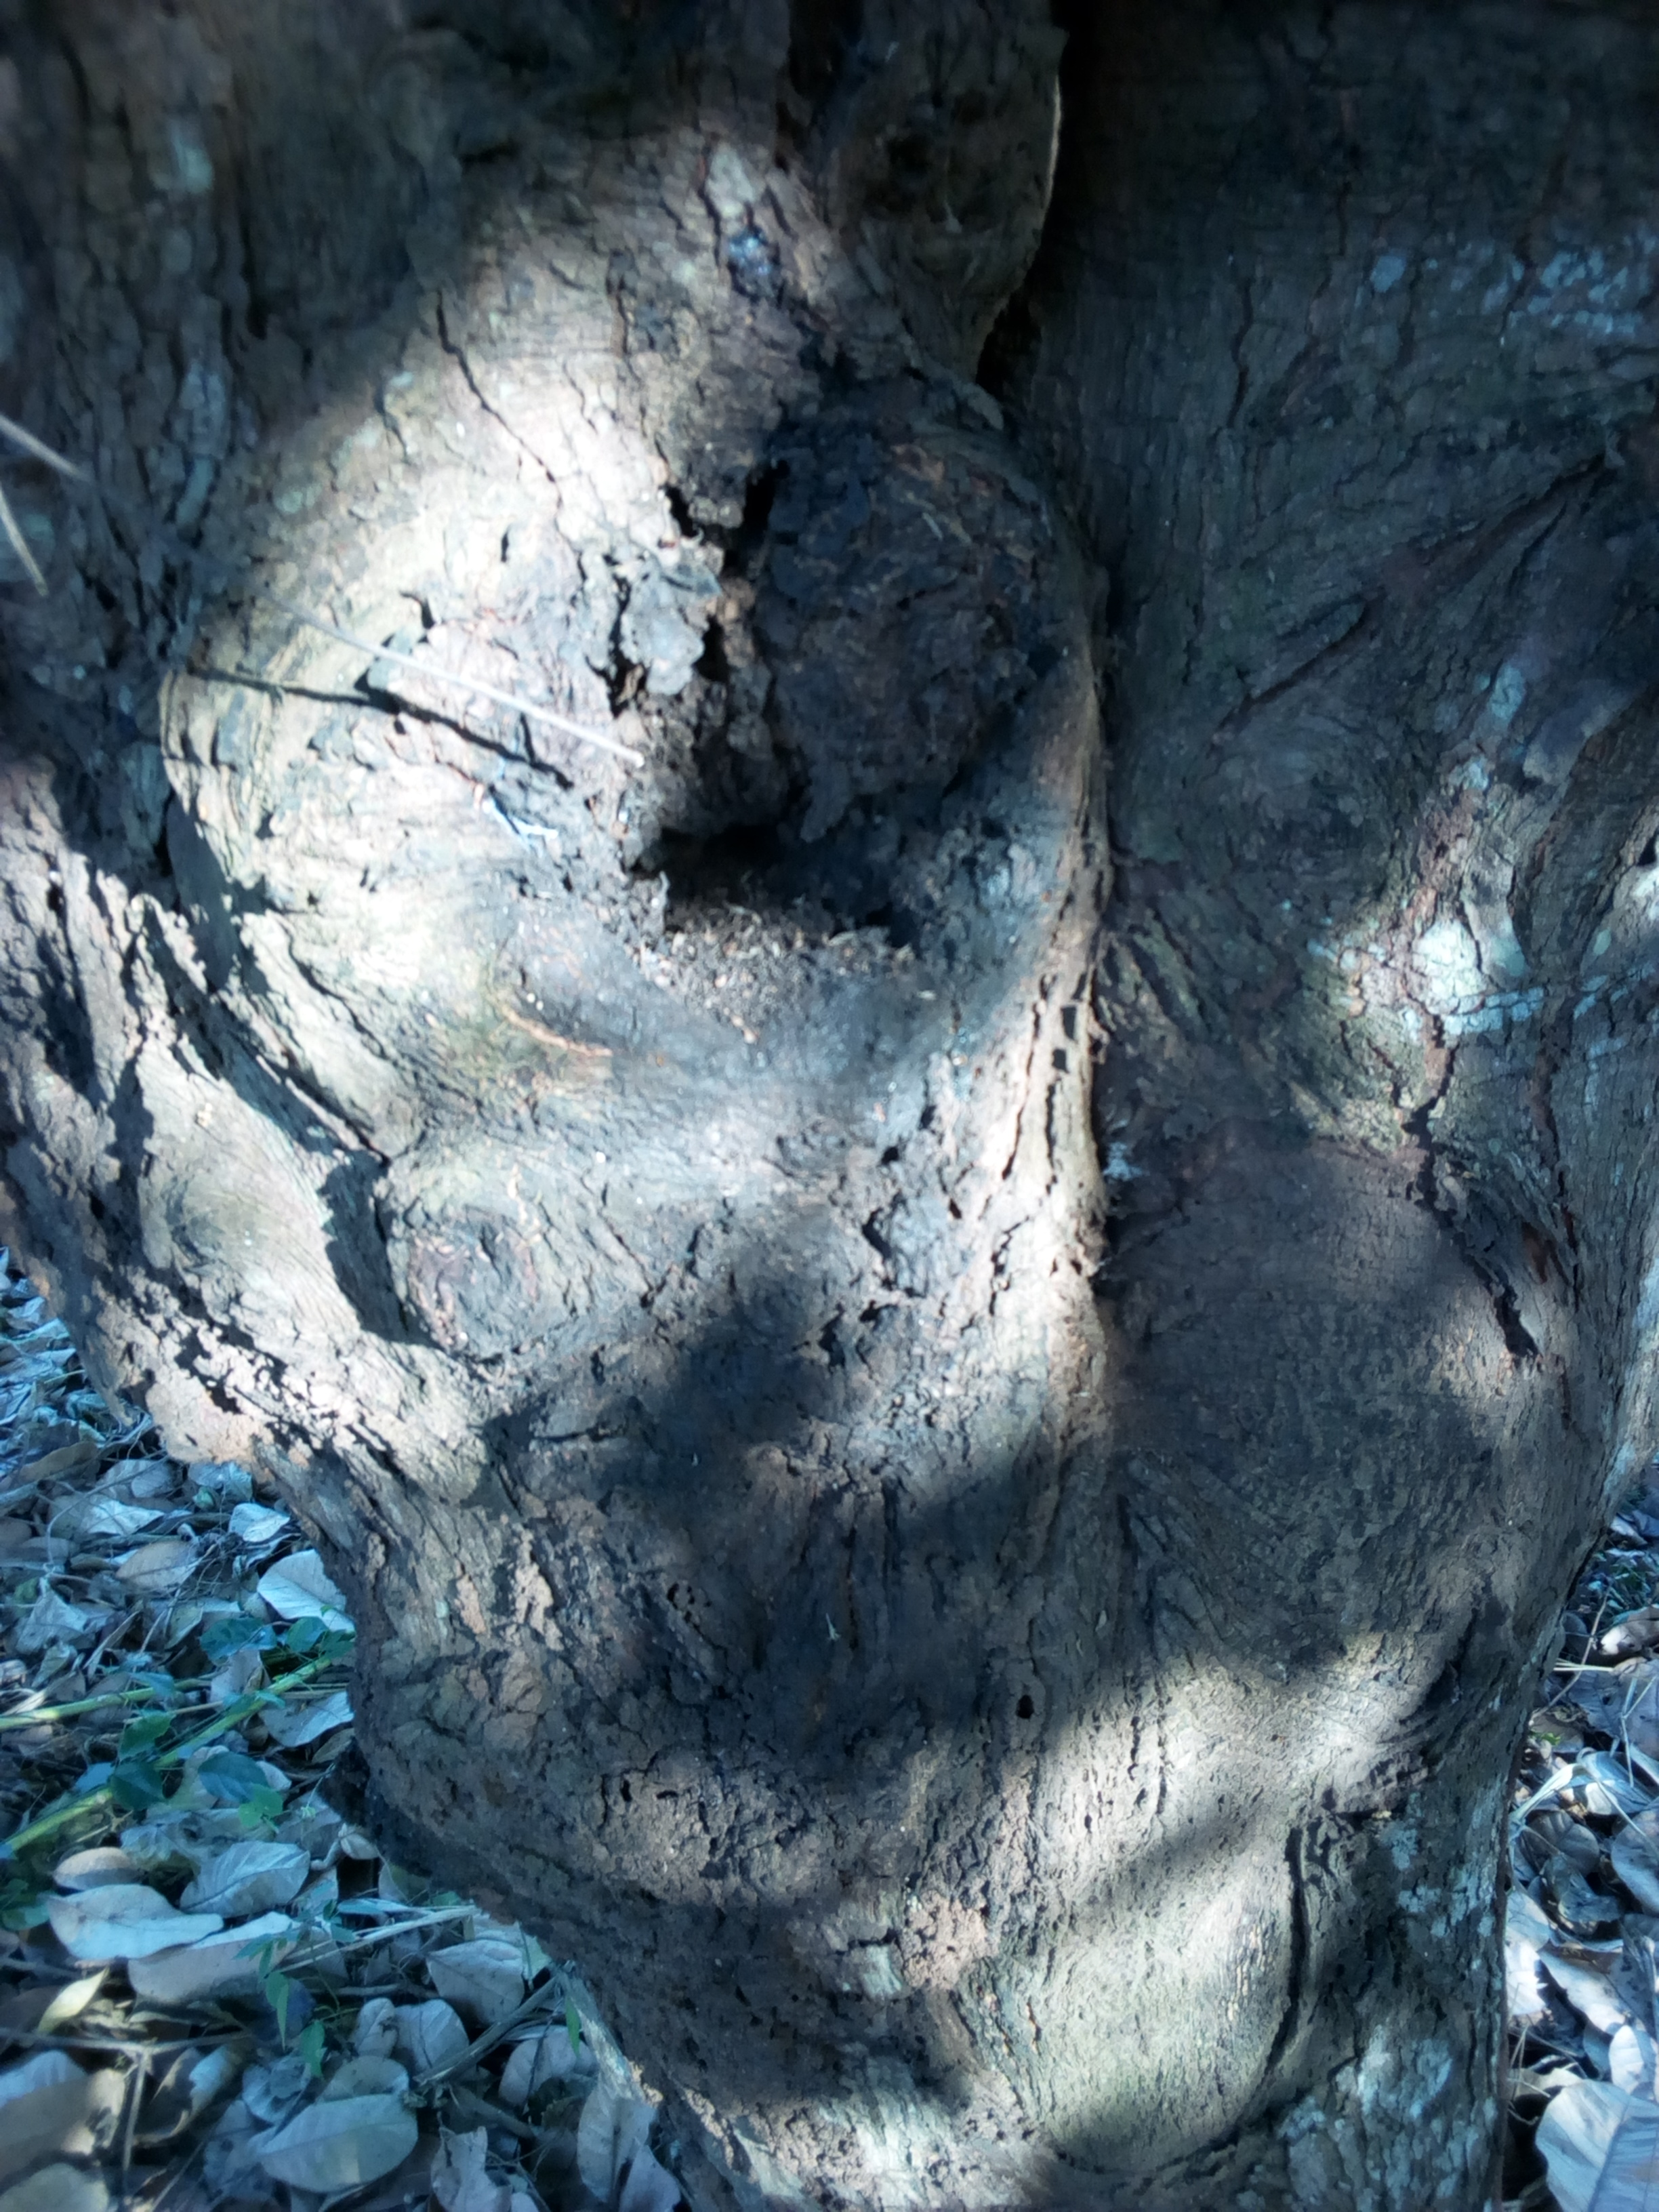ploceadorus ferrugineus: (525, 324, 1060, 1106)
